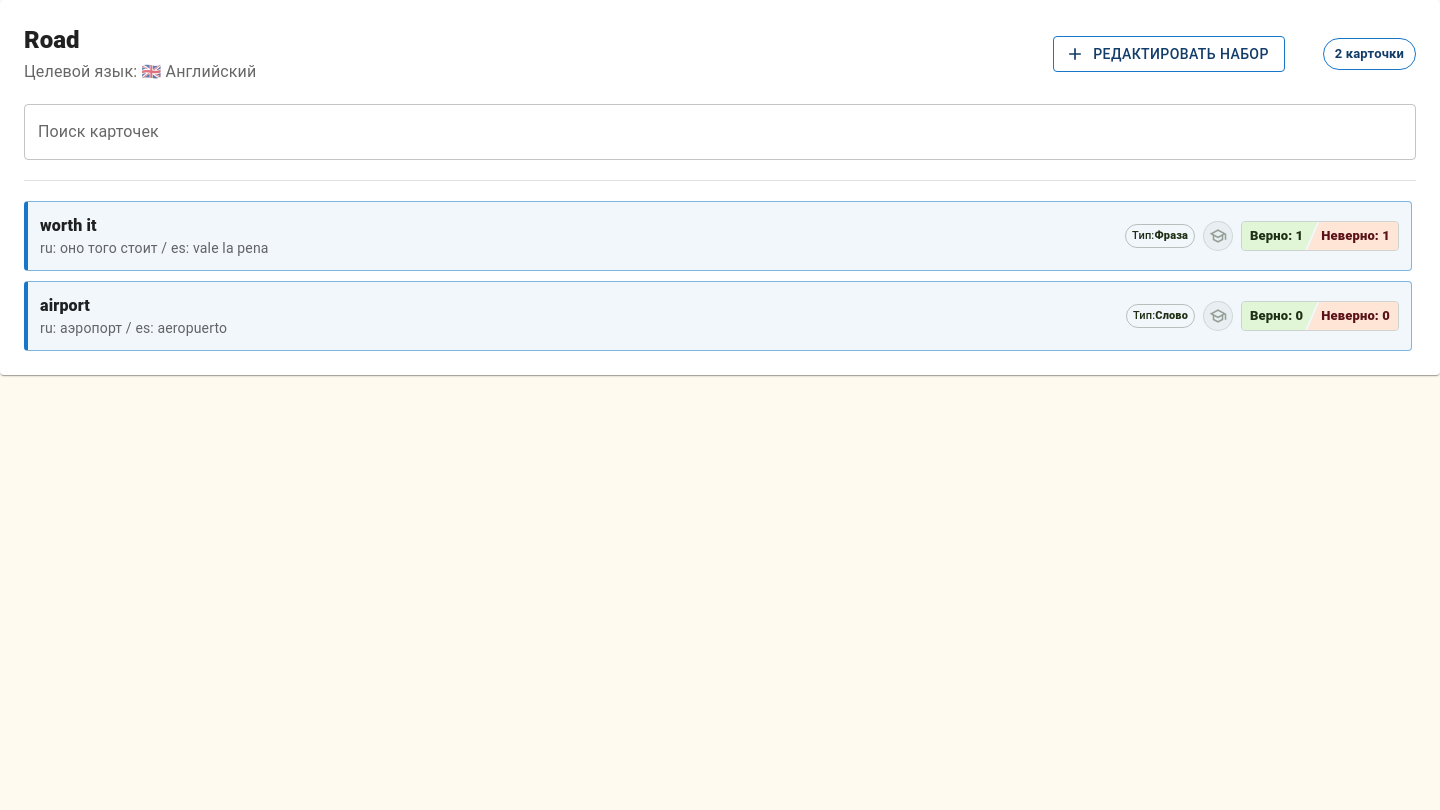
Test: CardSetDetailView › asks for confirmation before canceling card set editing
Step 1. Click the button "Редактировать набор" → (1169, 54), box [1053,36,1285,72]
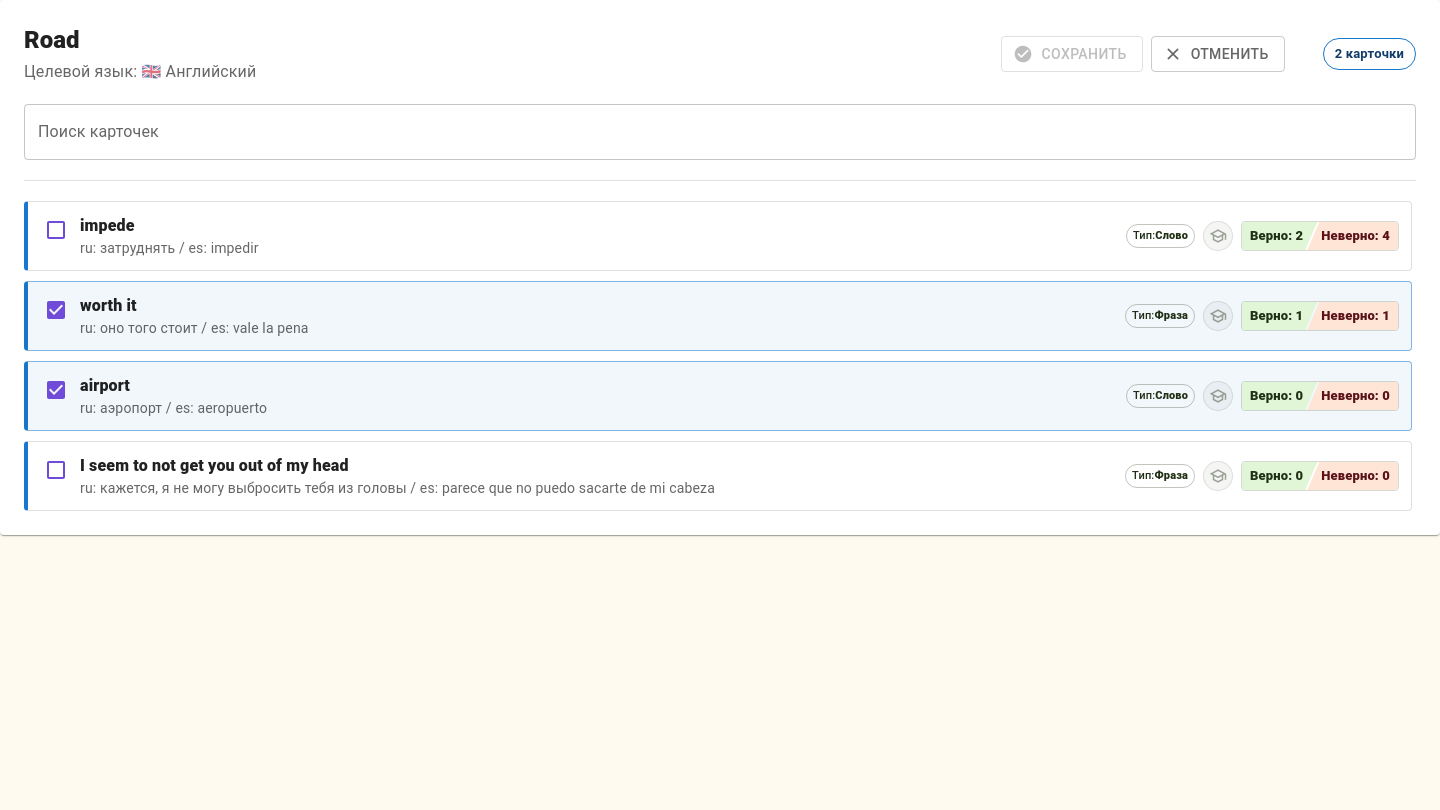
Step 2. Click the checkbox with test id "card_set_detail__card_select_checkbox__card-impede" → (56, 230), box [44,218,68,242]
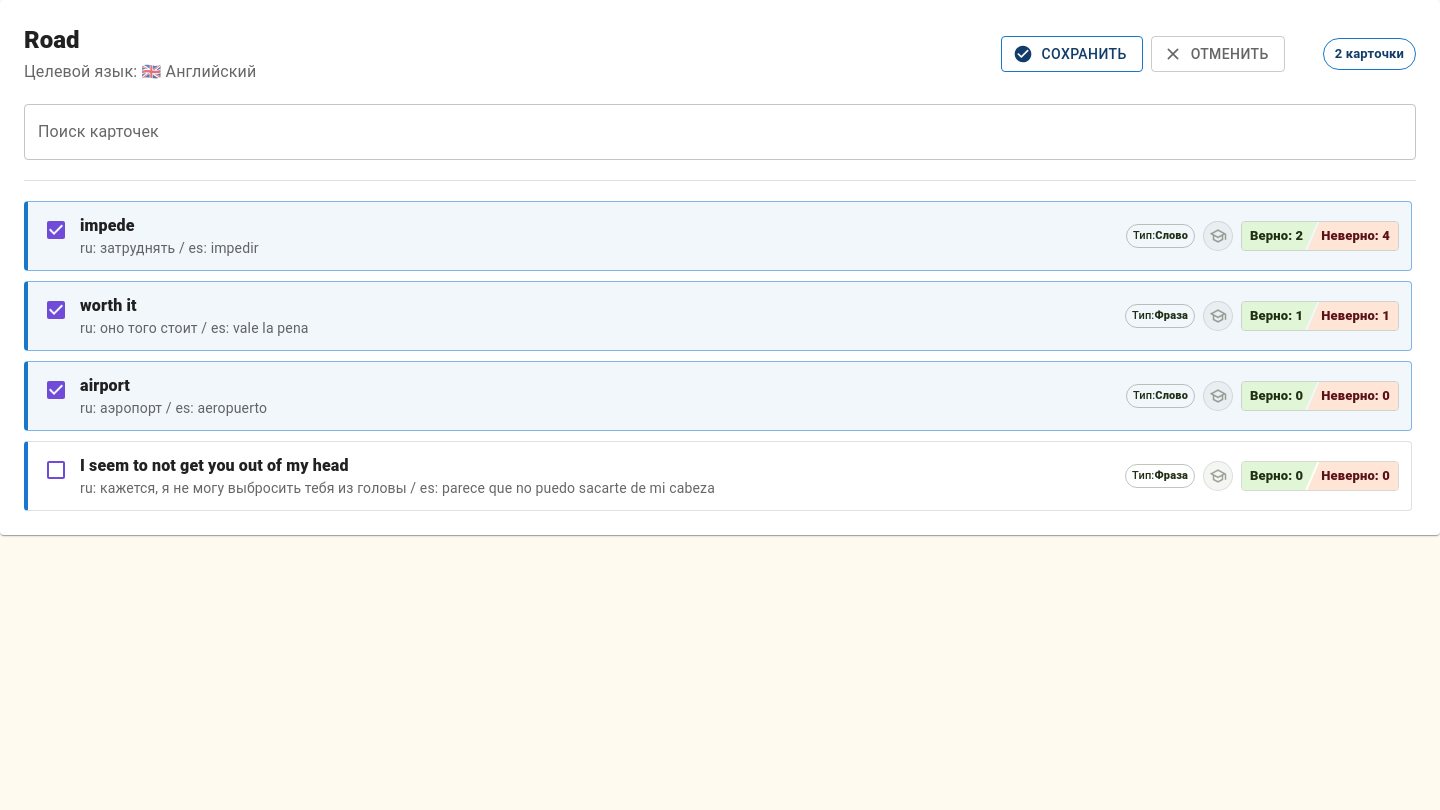
Step 3. Click the button "Отменить" → (1218, 54), box [1151,36,1285,72]
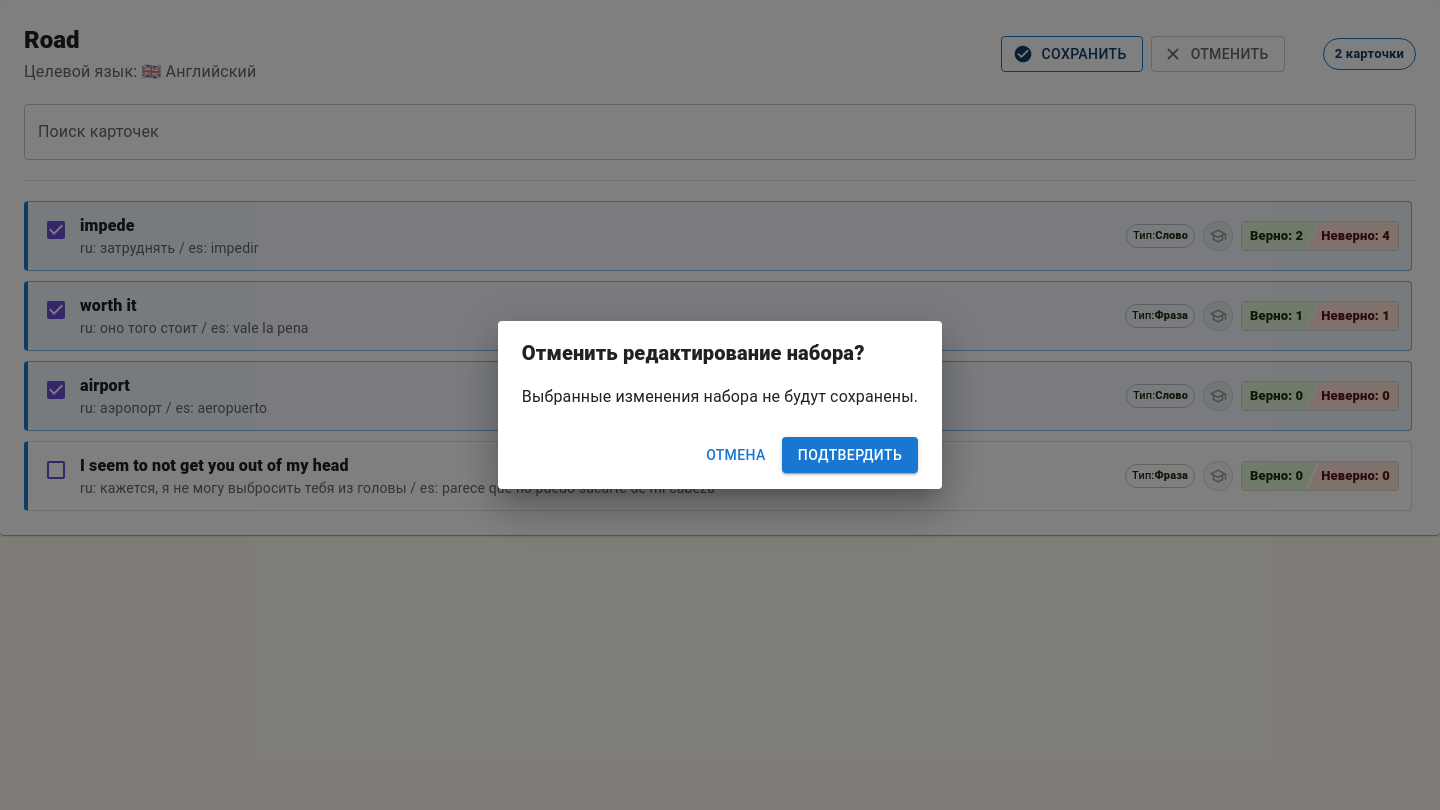
expect the dialog "Отменить редактирование набора?" shows "Выбранные изменения набора не будут сохранены.": met, box [522,387,918,406]
Step 4. Click the button "Отмена" → (736, 455), box [698,437,774,473]
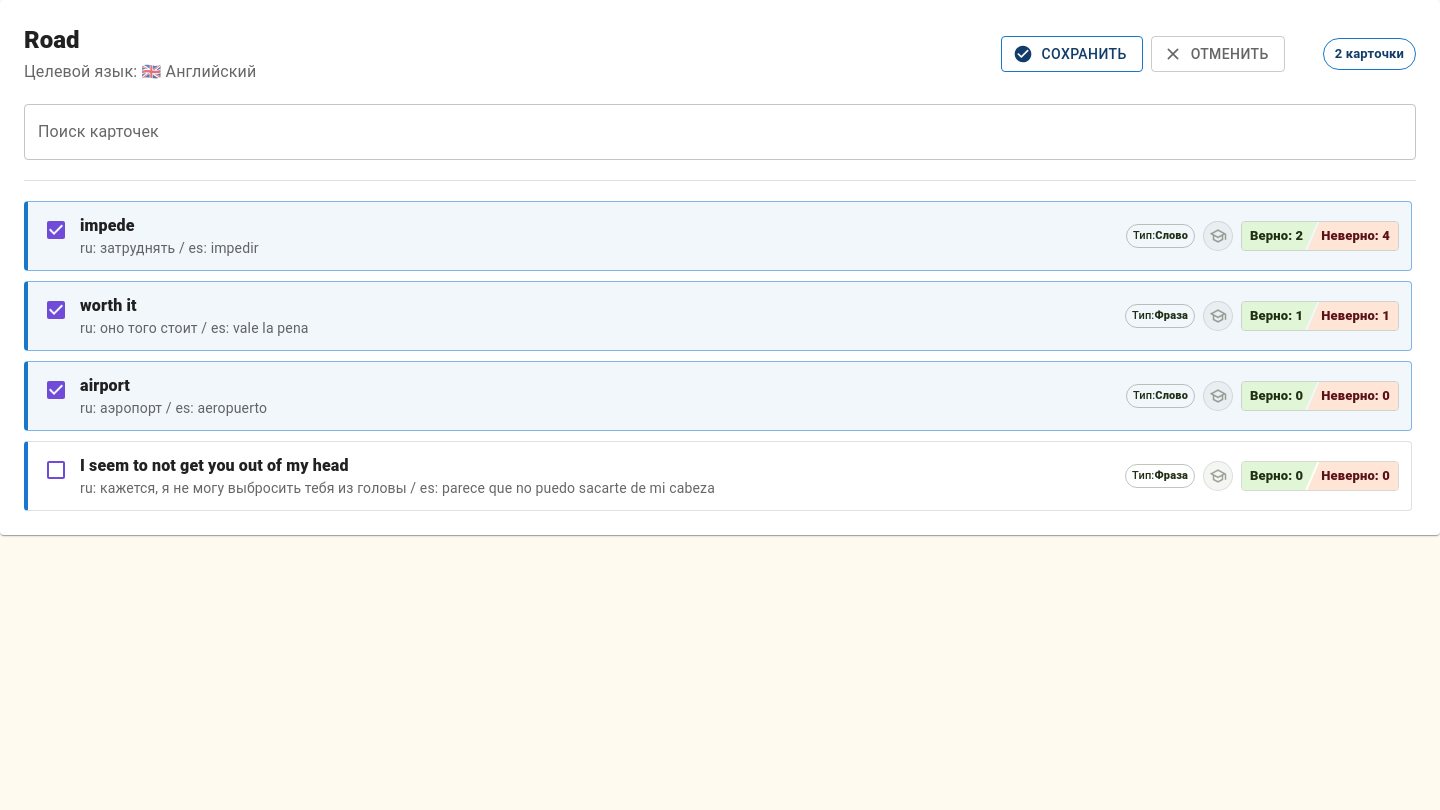
expect the button "Сохранить" is enabled: met, box [1002,36,1143,72]
expect the dialog is gone: met
Step 5. Click the button "Отменить" → (1218, 54), box [1151,36,1285,72]
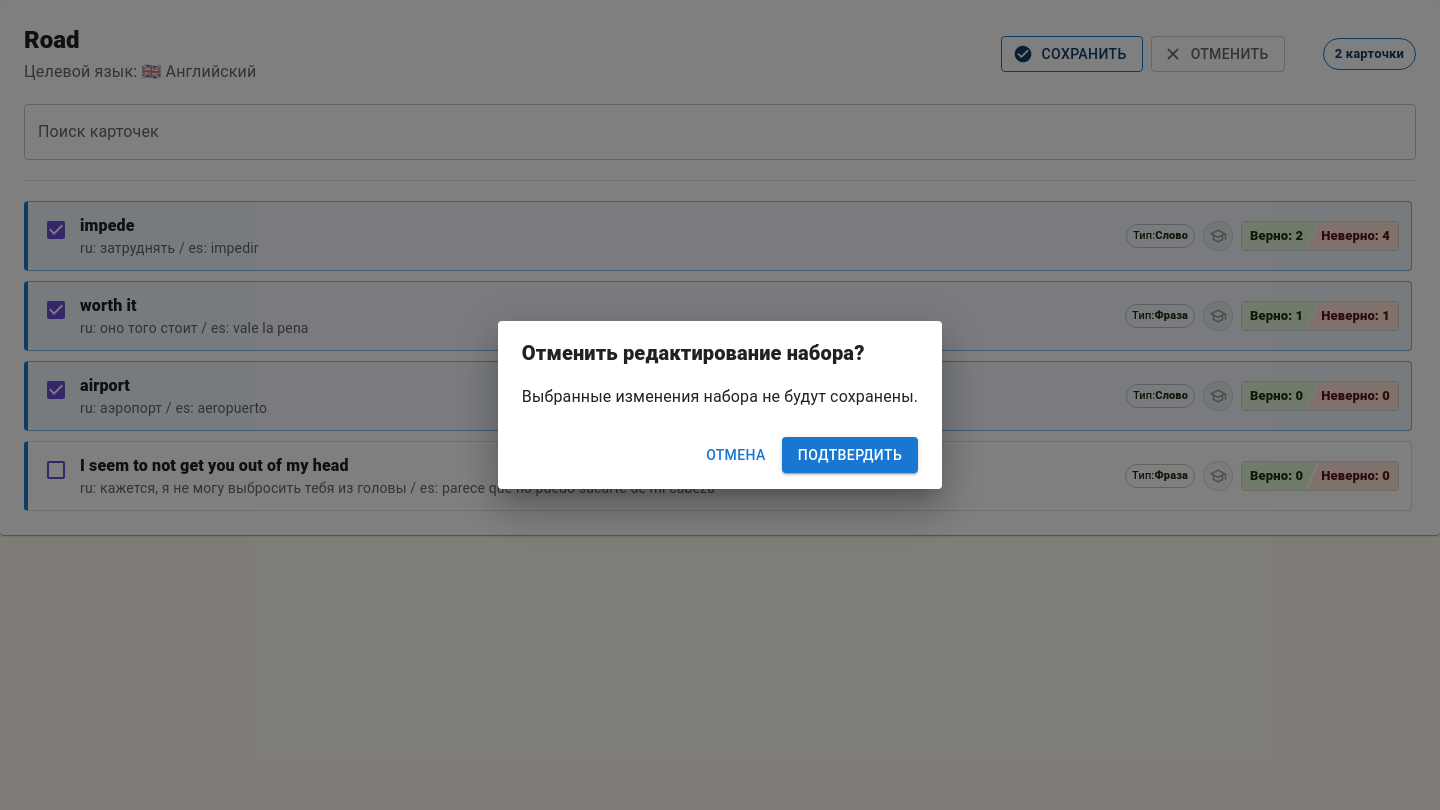
Step 6. Click the button "Подтвердить" → (850, 455), box [782,437,918,473]
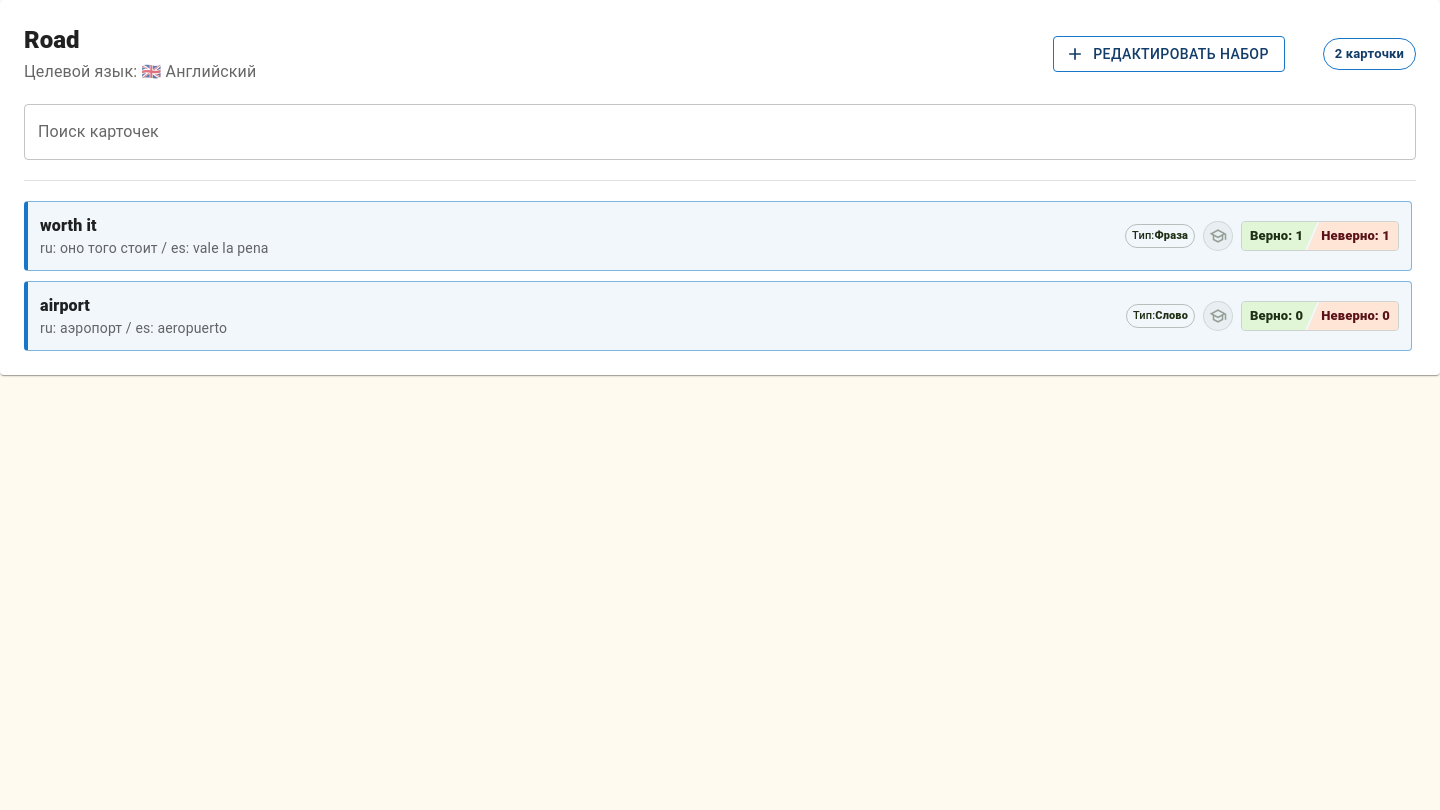
expect the dialog is gone: met
expect the button "Редактировать набор" is shown: met, box [1053,36,1285,72]
expect the text "impede" is gone: met
